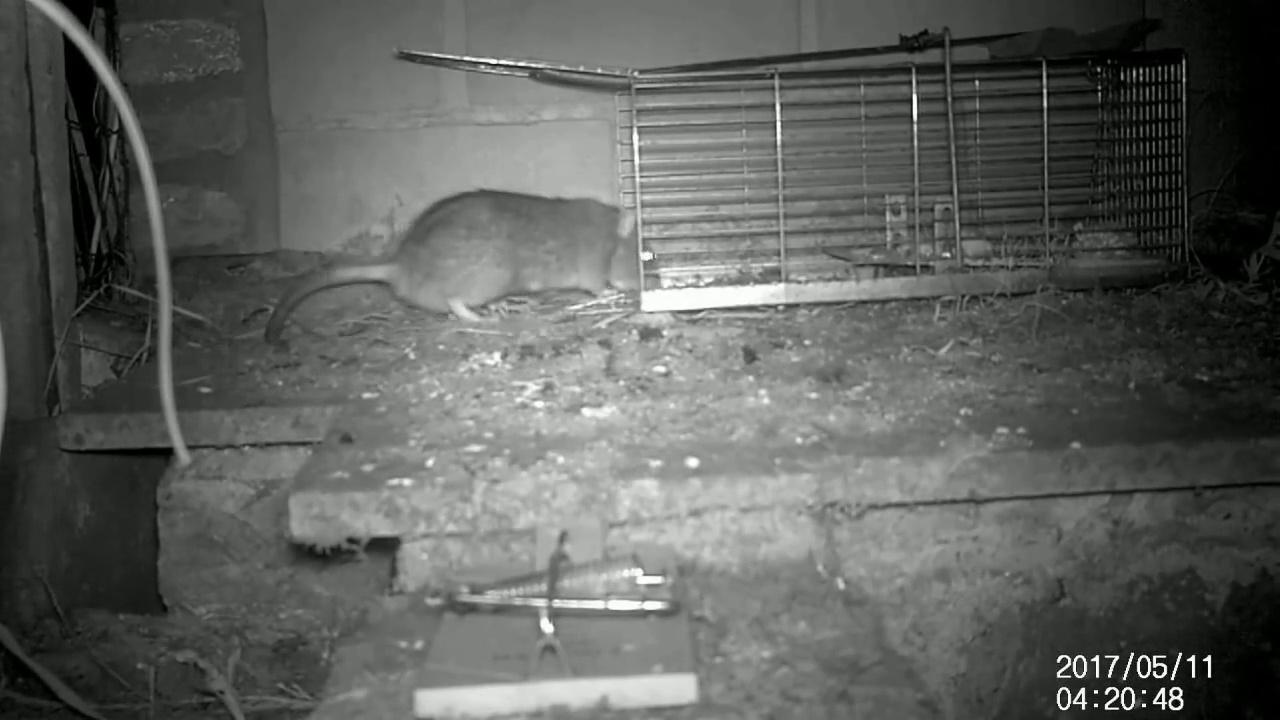rat: (377, 180, 665, 321)
